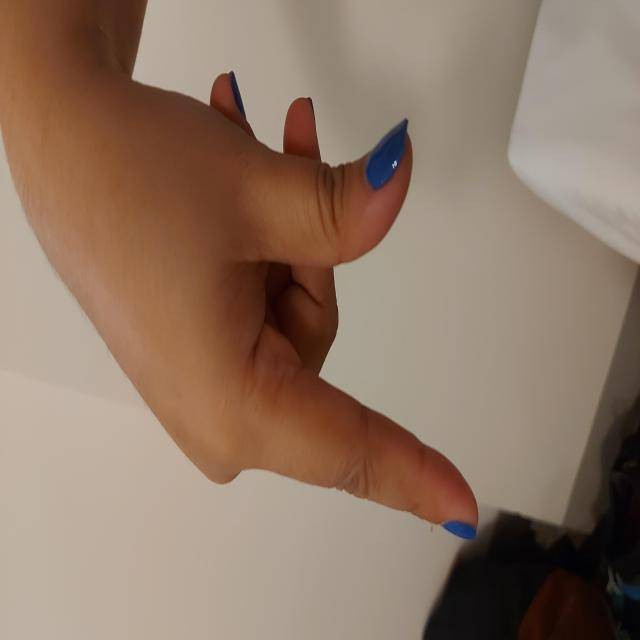Q: (96, 58, 564, 480)
